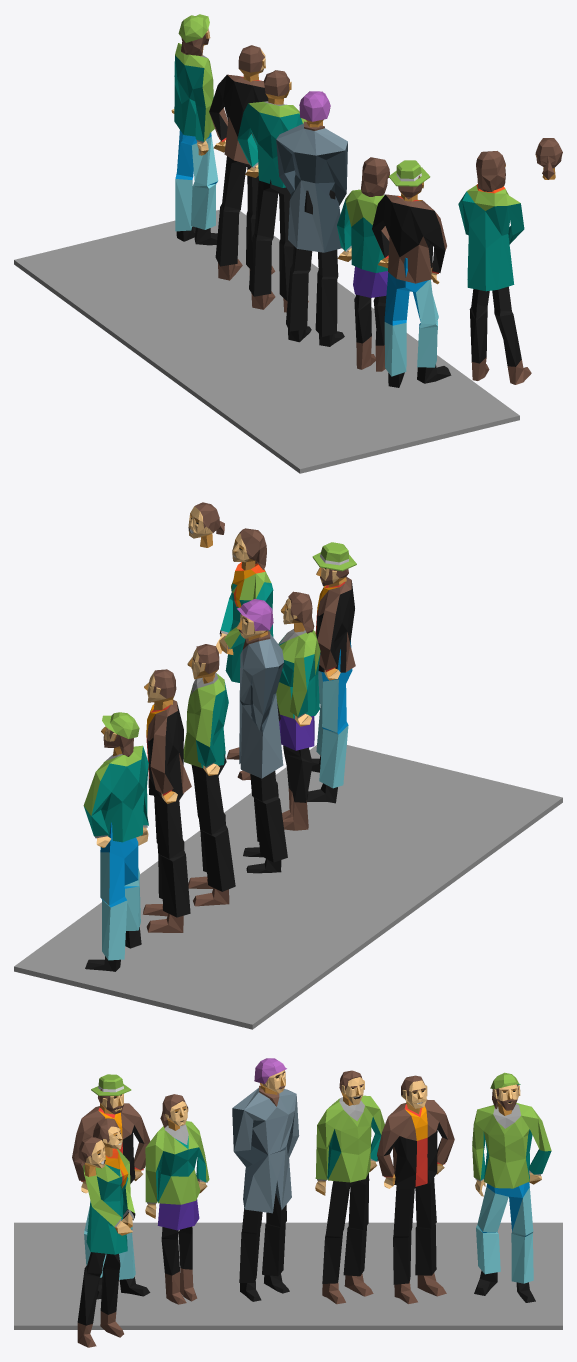
Rendered from crowd.glb.
The picture shows the model from 3 angles, top to bottom: view 1: azimuth 30°, elevation 25°; view 2: azimuth 150°, elevation 25°; view 3: azimuth 270°, elevation 25°; orthographic projection. The views are drawn at different scales.
Parts seen in each view (by area): view 1: group1650827471, group1738346738, group210116395, group1213976047, group421297011, group203651746, group622293134, group196049092, group746387980, group1796477588, group1317379966, group85213465 (+11 smaller); view 2: group1650827471, group1738346738, group85213465, group622293134, group746387980, group196049092, group1796477588, group421297011, group1317379966, group970516735, group1213976047, group203651746 (+10 smaller); view 3: group1650827471, group1738346738, group746387980, group85213465, group970516735, group1317379966, group622293134, group1796477588, group196049092, group210116395, group203651746, group2120653052 (+13 smaller).
Part boxes in pixels (bbox=[...]): group1650827471: bbox=[14, 209, 519, 473]; group1738346738: bbox=[276, 121, 347, 252]; group210116395: bbox=[458, 184, 524, 291]; group1213976047: bbox=[372, 194, 446, 284]; group421297011: bbox=[384, 258, 451, 387]; group203651746: bbox=[286, 190, 344, 346]; group622293134: bbox=[175, 130, 218, 245]; group196049092: bbox=[249, 179, 308, 312]; group746387980: bbox=[337, 189, 388, 297]; group1796477588: bbox=[215, 156, 275, 280]; group1317379966: bbox=[237, 101, 306, 187]; group85213465: bbox=[171, 43, 214, 155]; group1650827471: bbox=[14, 745, 562, 1029]; group1738346738: bbox=[239, 631, 283, 778]; group85213465: bbox=[83, 745, 148, 847]; group622293134: bbox=[85, 822, 141, 971]; group746387980: bbox=[276, 629, 320, 750]; group196049092: bbox=[188, 754, 235, 906]; group1796477588: bbox=[143, 793, 190, 932]; group421297011: bbox=[307, 640, 352, 803]; group1317379966: bbox=[183, 673, 228, 775]; group970516735: bbox=[146, 700, 191, 803]; group1213976047: bbox=[315, 577, 355, 680]; group203651746: bbox=[243, 703, 287, 873]; group1650827471: bbox=[14, 1222, 562, 1329]; group1738346738: bbox=[232, 1085, 299, 1213]; group746387980: bbox=[145, 1121, 209, 1230]; group85213465: bbox=[472, 1103, 551, 1196]; group970516735: bbox=[377, 1099, 454, 1188]; group1317379966: bbox=[315, 1095, 384, 1195]; group622293134: bbox=[474, 1182, 535, 1302]; group1796477588: bbox=[393, 1178, 446, 1304]; group196049092: bbox=[322, 1173, 373, 1304]; group210116395: bbox=[83, 1148, 135, 1254]; group203651746: bbox=[239, 1193, 289, 1301]; group2120653052: bbox=[77, 1252, 123, 1347].
Size of the model in its own units: 5.53 by 4.32 by 9.08.
